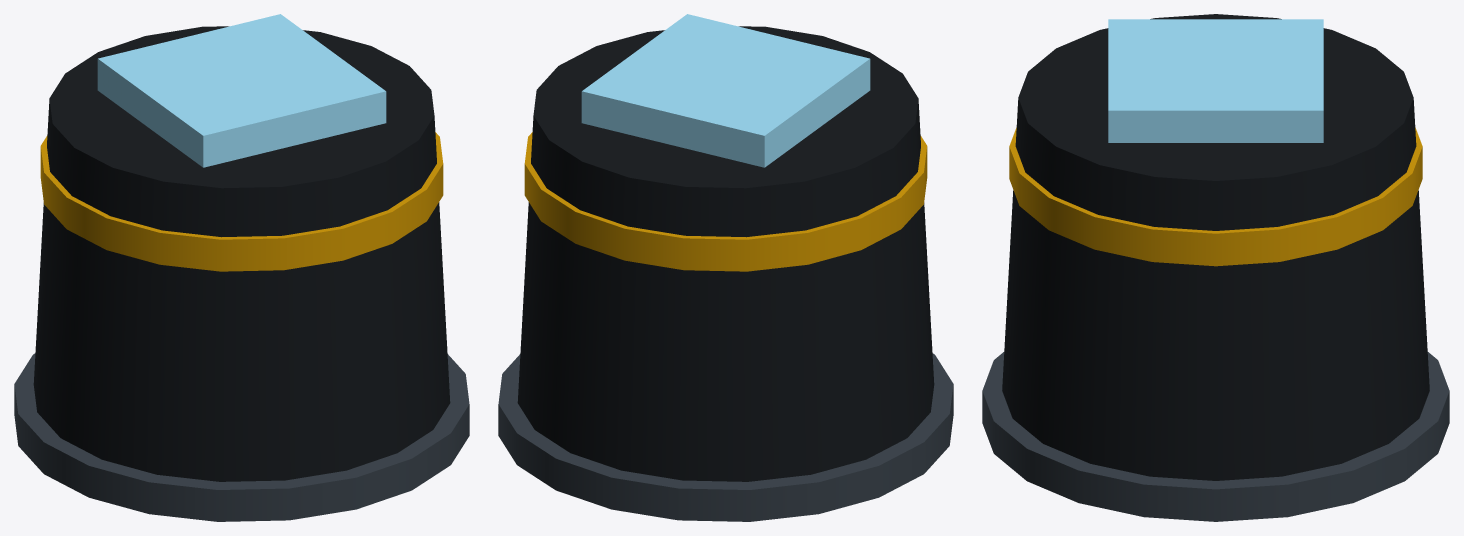
3 views of the same model, side by side, from view 1: azimuth 30°, elevation 25°; view 2: azimuth 150°, elevation 25°; view 3: azimuth 270°, elevation 25° (orthographic). The views are drawn at different scales.
Visible parts, largest first — view 1: scanner, window, scanner:base, scanner:ring; view 2: scanner, window, scanner:base, scanner:ring; view 3: scanner, window, scanner:base, scanner:ring.
Part boxes in pixels (x1,y1,x2,y2): scanner: (33, 26, 450, 481); window: (97, 14, 386, 167); scanner:base: (14, 353, 469, 521); scanner:ring: (40, 132, 443, 271); scanner: (517, 26, 934, 481); window: (581, 14, 870, 167); scanner:base: (498, 353, 953, 521); scanner:ring: (524, 132, 927, 271); scanner: (1002, 14, 1429, 480); window: (1108, 19, 1323, 142); scanner:base: (982, 352, 1449, 521); scanner:ring: (1009, 127, 1422, 266).
Bounding box in the file's own units: 0.26 × 0.22 × 0.26.
